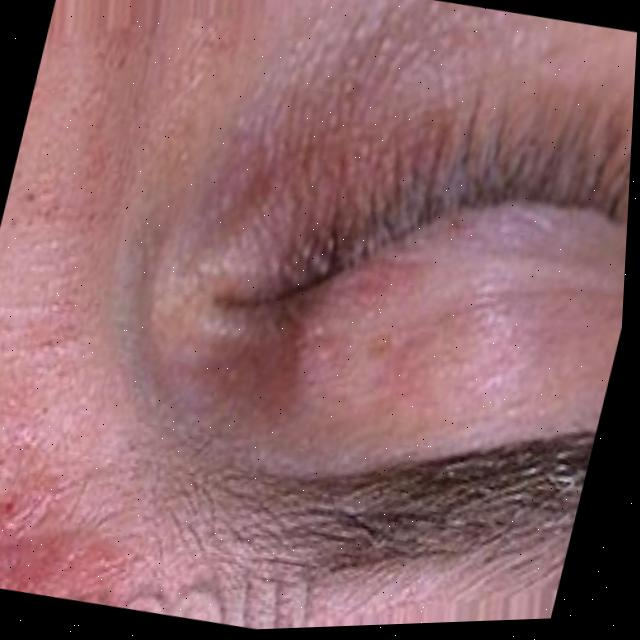Rosacea: (0, 448, 123, 606)
